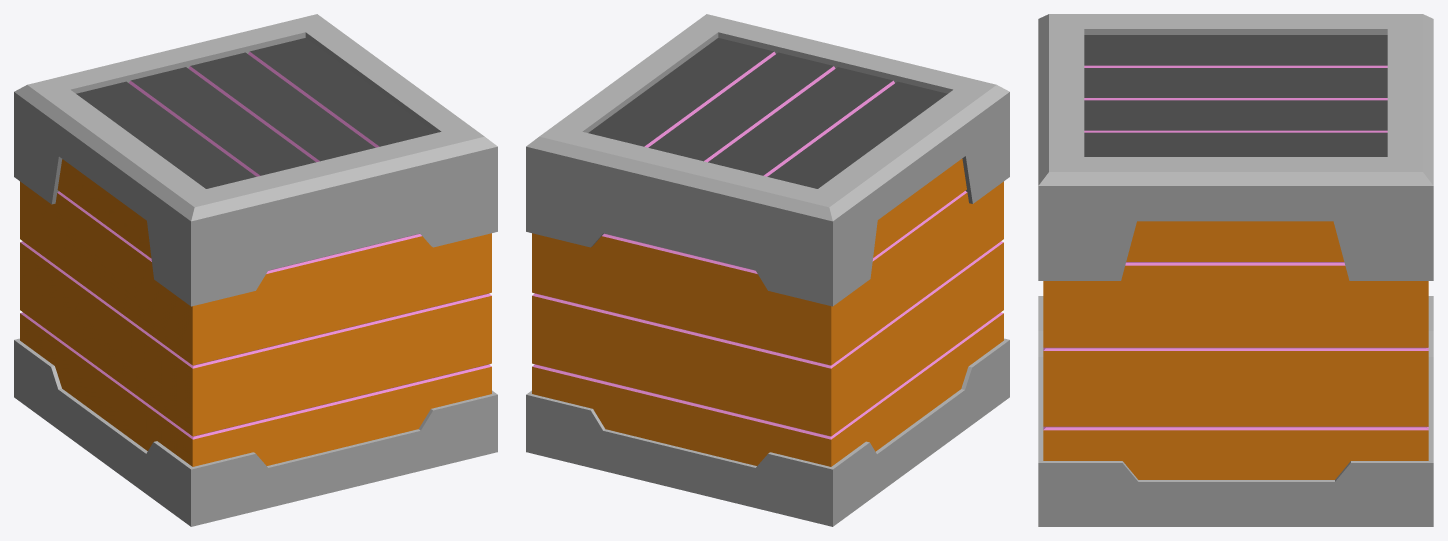
3 views of the same model, side by side, from view 1: azimuth 30°, elevation 25°; view 2: azimuth 150°, elevation 25°; view 3: azimuth 270°, elevation 25° (orthographic). The views are drawn at different scales.
Visible parts, largest first — view 1: SM_Box04; view 2: SM_Box04; view 3: SM_Box04.
Part boxes in pixels (x1=…): SM_Box04: x1=14, y1=14, x2=497, y2=526; SM_Box04: x1=526, y1=14, x2=1009, y2=526; SM_Box04: x1=1038, y1=14, x2=1433, y2=526.
Size of the model in its own units: 71.79 by 70.22 by 71.79.
